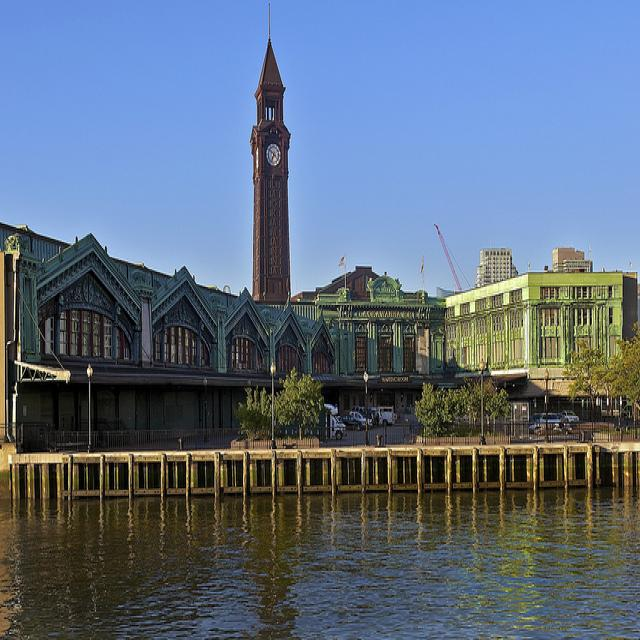Vehicle: (324, 403, 347, 441), (378, 406, 398, 425), (532, 413, 564, 424), (349, 412, 366, 430), (342, 416, 358, 431), (562, 410, 579, 423), (528, 422, 538, 435), (368, 412, 375, 428)
